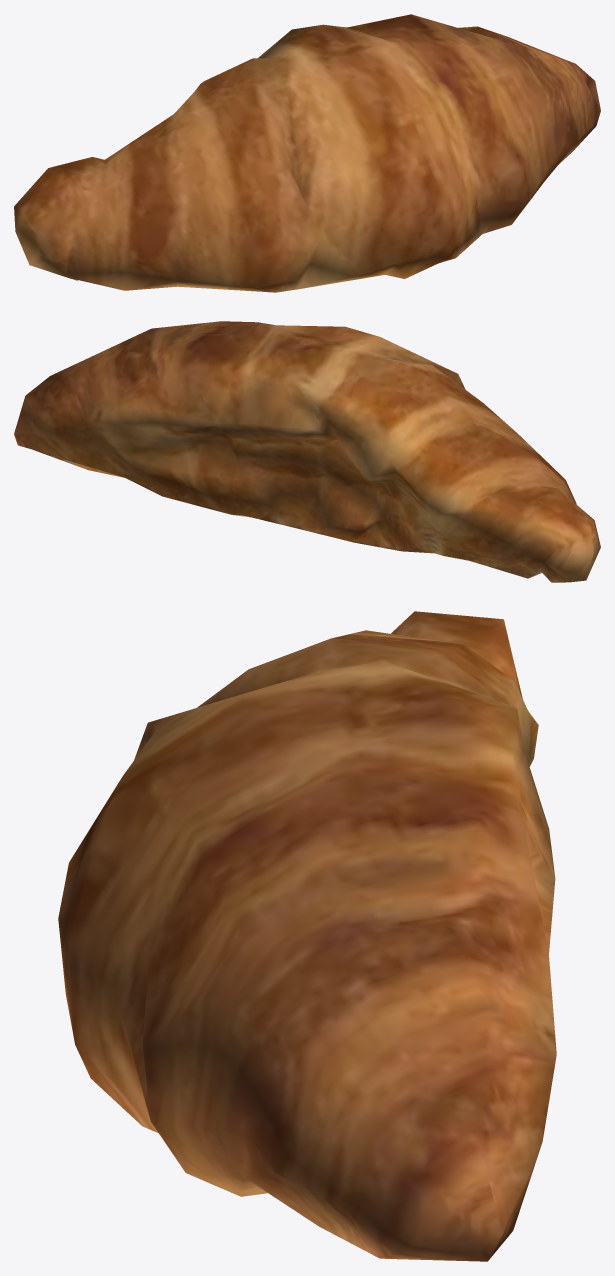
Rendered from croissant.glb.
3 renders of one model, top to bottom at view 1: azimuth 30°, elevation 25°; view 2: azimuth 150°, elevation 25°; view 3: azimuth 270°, elevation 25°, orthographic. The views are drawn at different scales.
Visible parts, largest first — view 1: croissant; view 2: croissant; view 3: croissant.
Part boxes in pixels (<box>): croissant: <box>14,14,600,292</box>; croissant: <box>14,321,600,582</box>; croissant: <box>58,611,556,1261</box>.
Size of the model in its own units: 0.1988 by 0.0617 by 0.075.
1 material, 1 textured.
